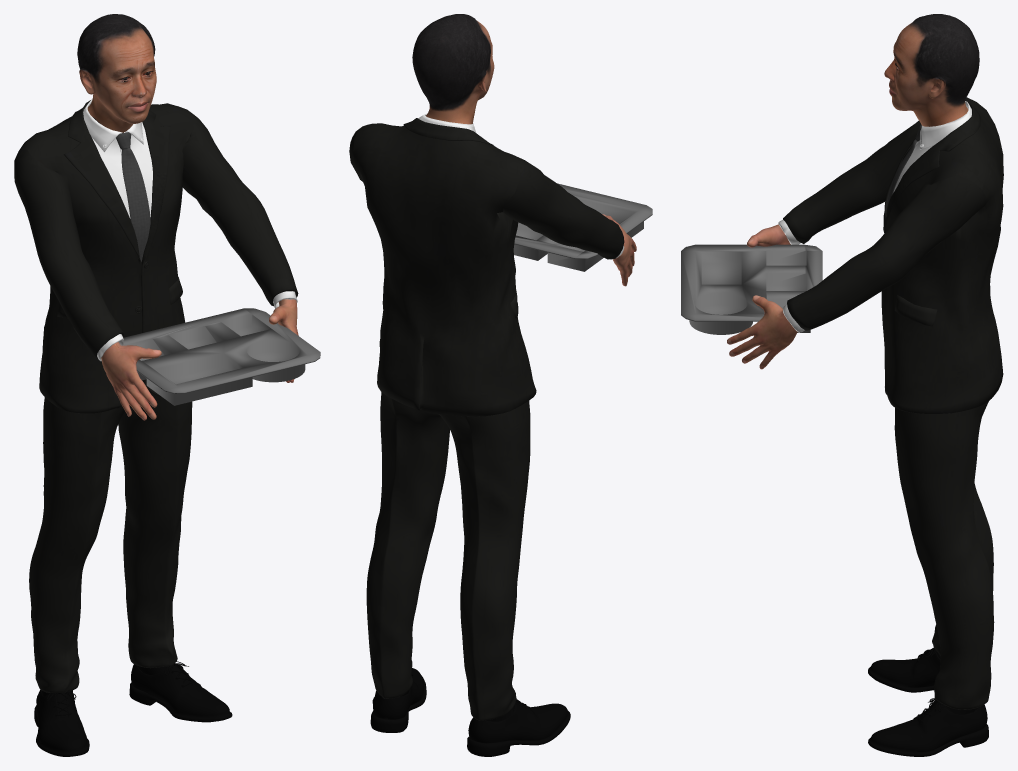
File: scp-solo02.glb
3 renders of one model, left to right at view 1: azimuth 30°, elevation 25°; view 2: azimuth 150°, elevation 25°; view 3: azimuth 270°, elevation 25°, orthographic.
Parts seen in each view (by area): view 1: Object_15.001, Cube, Object_8.001, Object_6.001; view 2: Object_15.001, Object_8.001, Cube, Object_6.001; view 3: Object_15.001, Cube, Object_8.001, Object_6.001.
Boxes of the visible parts, bbox=[...] form: Object_15.001: bbox=[14, 99, 298, 756]; Cube: bbox=[123, 308, 320, 405]; Object_8.001: bbox=[77, 14, 156, 132]; Object_6.001: bbox=[101, 299, 298, 420]; Object_15.001: bbox=[349, 113, 624, 756]; Object_8.001: bbox=[412, 14, 494, 124]; Cube: bbox=[513, 183, 652, 271]; Object_6.001: bbox=[602, 214, 636, 286]; Object_15.001: bbox=[778, 97, 1003, 756]; Cube: bbox=[681, 244, 822, 334]; Object_8.001: bbox=[884, 14, 979, 126]; Object_6.001: bbox=[727, 224, 797, 369].
Bounding box in the file's own units: 0.6378 × 1.95 × 0.8175.
11 materials, 9 textured.
